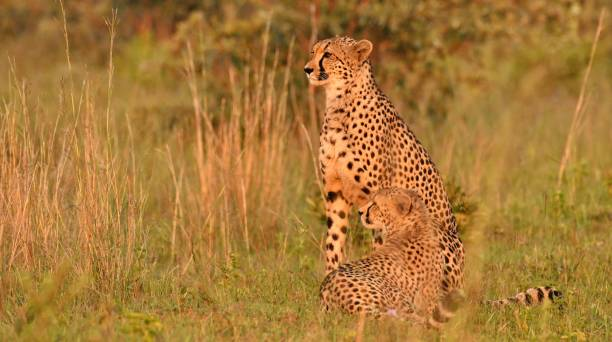cheetah: (300, 31, 377, 93)
